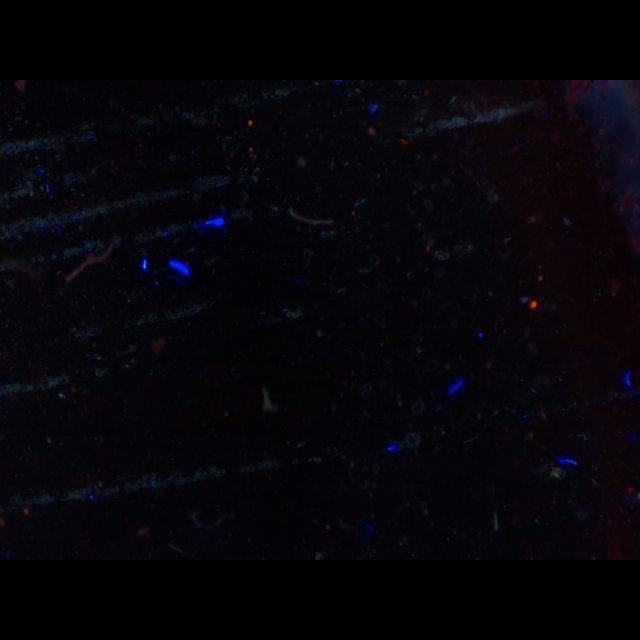Fibre: (258, 382, 278, 414)
